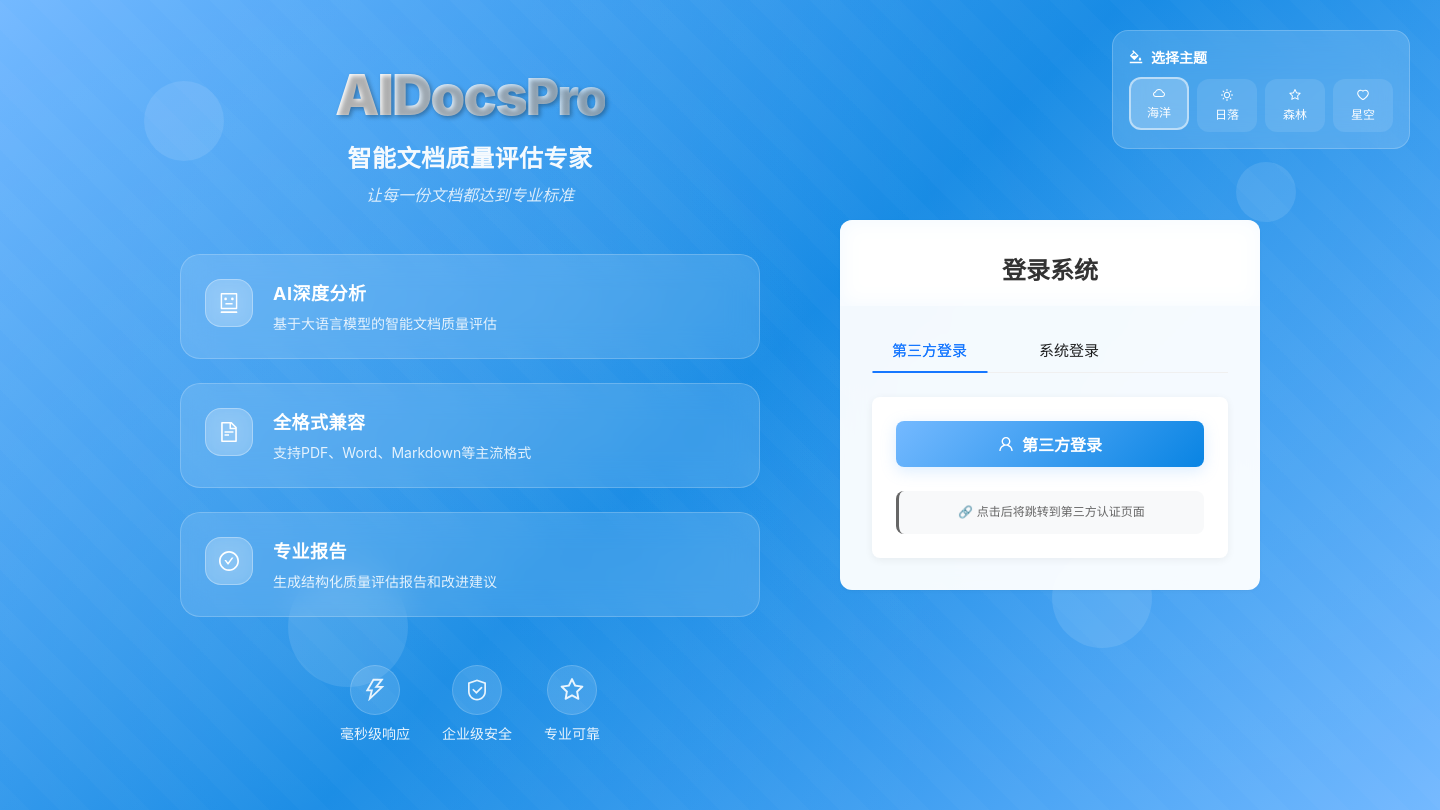
Test case: LoginPage › should show form validation errors
This screenshot has width=1440, height=810.
# 切换到系统登录标签
Click the tab "系统登录" at {"x": 1069, "y": 351}, box [1039,339,1099,363]
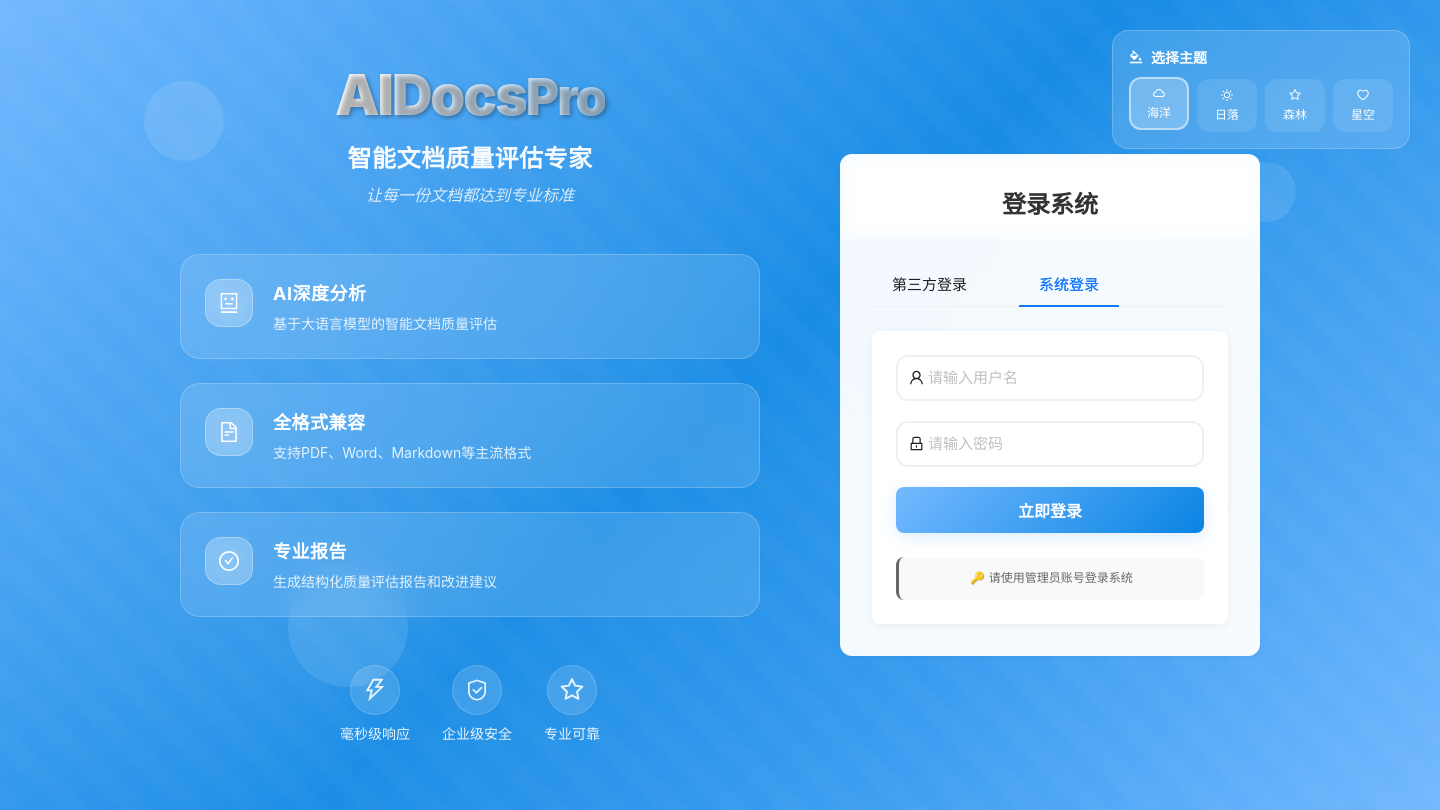
# 直接点击登录按钮，不填写表单
Click the button "立即登录" at {"x": 1050, "y": 510}, box [896,487,1204,533]
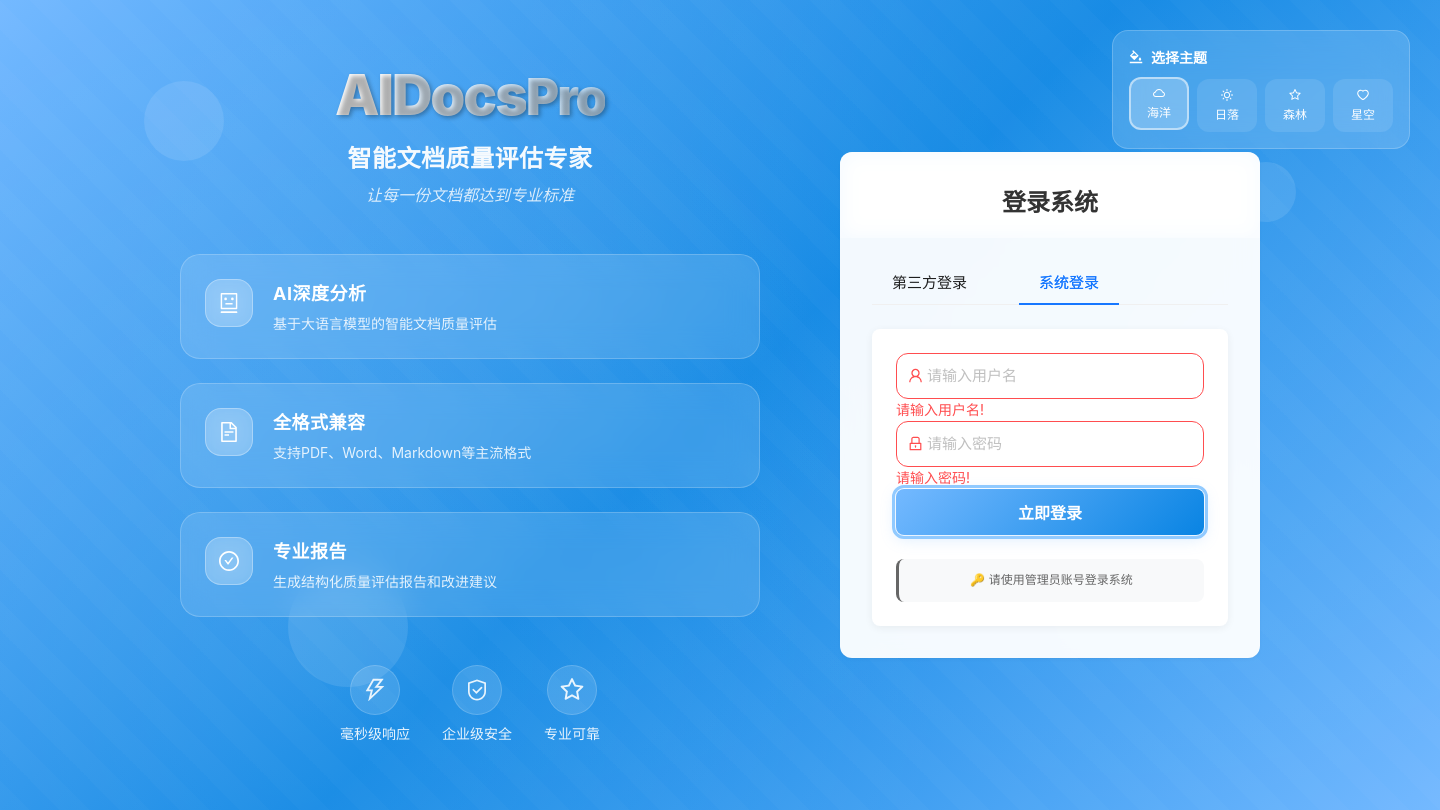
Check: the text "请输入用户名!" is shown, box [896,401,984,418]
Check: the text "请输入密码!" is shown, box [896,469,970,486]
